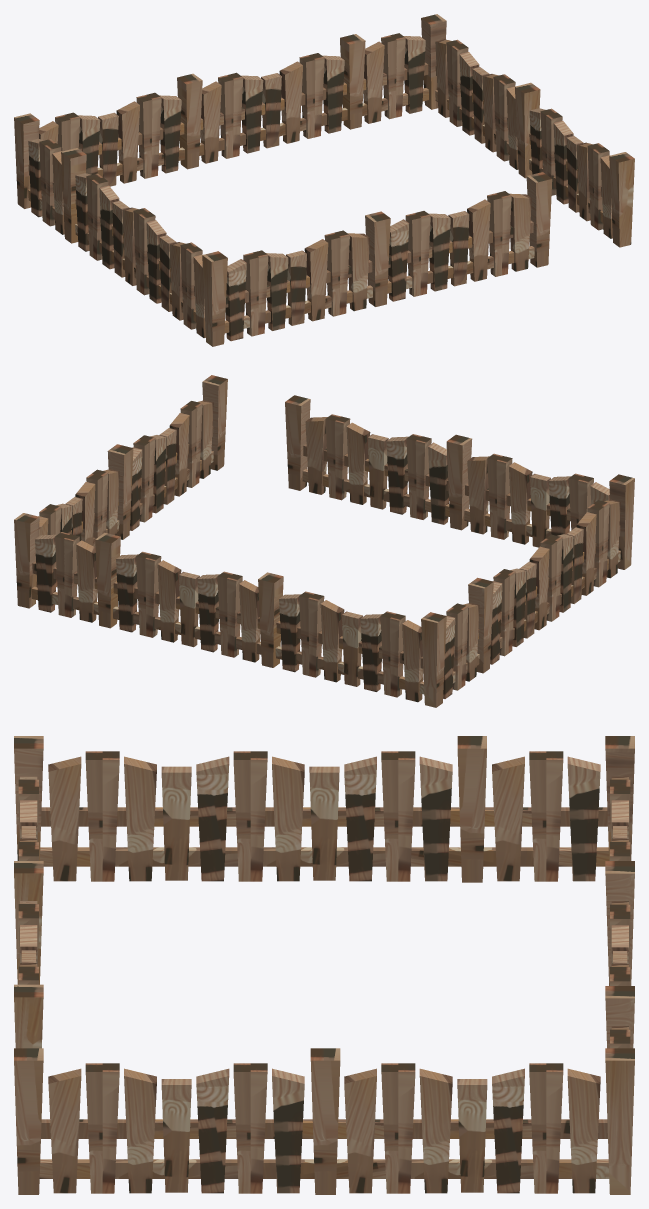
The model's file is fence.obj.
3 views of the same model, one above another, from view 1: azimuth 30°, elevation 25°; view 2: azimuth 150°, elevation 25°; view 3: azimuth 270°, elevation 25° (orthographic). The views are drawn at different scales.
Parts seen in each view (by area): view 1: 4scf.027; view 2: 4scf.027; view 3: 4scf.027.
Boxes of the visible parts, <box> form: 4scf.027: <box>14,14,634,346</box>; 4scf.027: <box>14,375,634,707</box>; 4scf.027: <box>14,736,634,1194</box>.
Bounding box in the file's own units: 260 × 50.83 × 210.
